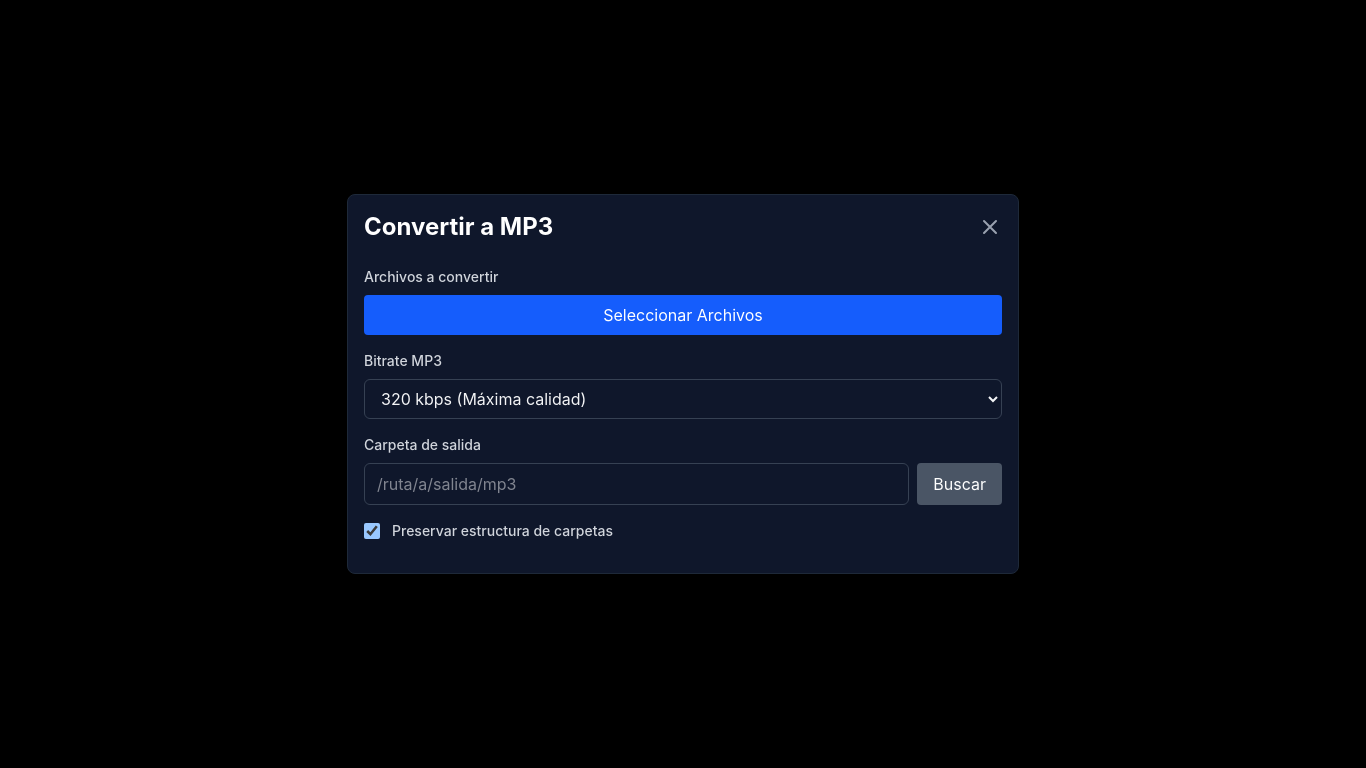
Test: ConversionDialog › Selección de archivos › debería manejar selección de un solo archivo
The image size is (1366, 768).
Click the button "Seleccionar Archivos". click: {"x": 683, "y": 315}
box: [364, 295, 1002, 335]
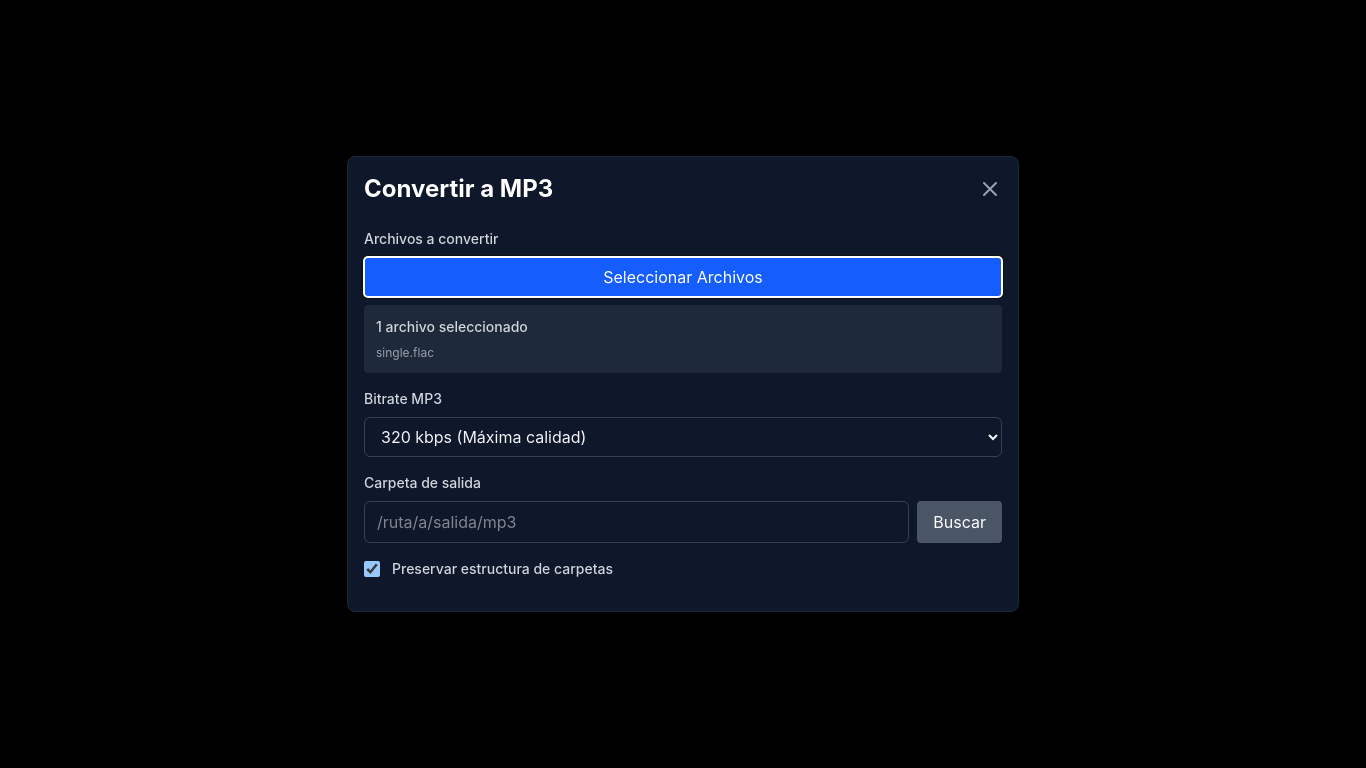
Check: the text "1 archivo seleccionado" is shown, box [376, 318, 528, 335]
